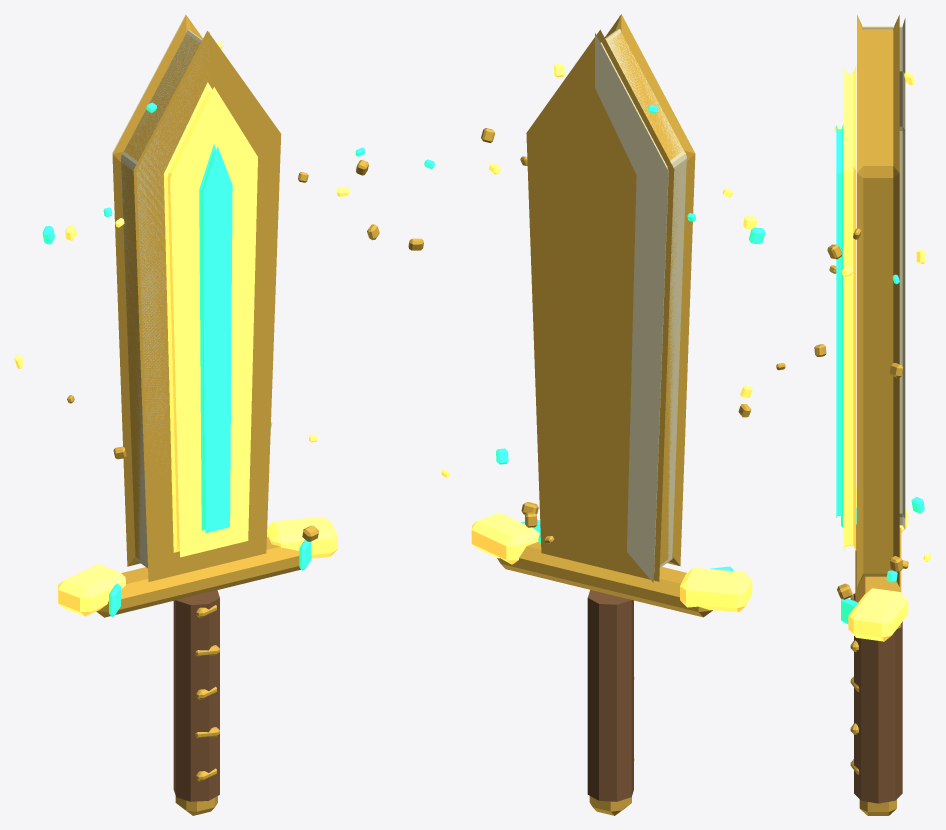
File: hoplite_midas_sword.glb
The picture shows the model from 3 angles, left to right: view 1: azimuth 30°, elevation 25°; view 2: azimuth 150°, elevation 25°; view 3: azimuth 270°, elevation 25°; orthographic projection.
Parts seen in each view (by area): view 1: midas_outer_blade, midas_blade_core, midas_center_rune, midas_handle, midas_pale_edge, midas_guard, midas_guard_left_tip, midas_guard_right_tip; view 2: midas_outer_blade, midas_pale_edge, midas_handle, midas_guard, midas_guard_left_tip, midas_guard_right_tip; view 3: midas_outer_blade, midas_handle, midas_blade_core, midas_pale_edge, midas_center_rune, midas_guard_right_tip, midas_guard, midas_pommel, midas_guard_right_gem.
Part boxes in pixels (bbox=[...]): midas_outer_blade: bbox=[112, 15, 281, 581]; midas_blade_core: bbox=[163, 82, 257, 557]; midas_center_rune: bbox=[199, 144, 232, 533]; midas_handle: bbox=[173, 590, 219, 801]; midas_pale_edge: bbox=[112, 14, 209, 568]; midas_guard: bbox=[96, 537, 300, 617]; midas_guard_left_tip: bbox=[57, 564, 125, 616]; midas_guard_right_tip: bbox=[267, 516, 337, 558]; midas_outer_blade: bbox=[526, 14, 695, 581]; midas_pale_edge: bbox=[595, 15, 686, 582]; midas_handle: bbox=[587, 590, 633, 801]; midas_guard: bbox=[497, 542, 712, 617]; midas_guard_left_tip: bbox=[680, 567, 752, 612]; midas_guard_right_tip: bbox=[471, 512, 539, 564]; midas_outer_blade: bbox=[857, 15, 899, 586]; midas_handle: bbox=[854, 593, 902, 803]; midas_blade_core: bbox=[843, 66, 856, 550]; midas_pale_edge: bbox=[857, 18, 905, 529]; midas_center_rune: bbox=[836, 124, 843, 518]; midas_guard_right_tip: bbox=[848, 588, 908, 641]; midas_guard: bbox=[855, 524, 901, 636]; midas_pommel: bbox=[859, 799, 896, 815]; midas_guard_right_gem: bbox=[841, 598, 858, 623].
Size of the model in its own units: 1.45 by 3.08 by 0.4104.
